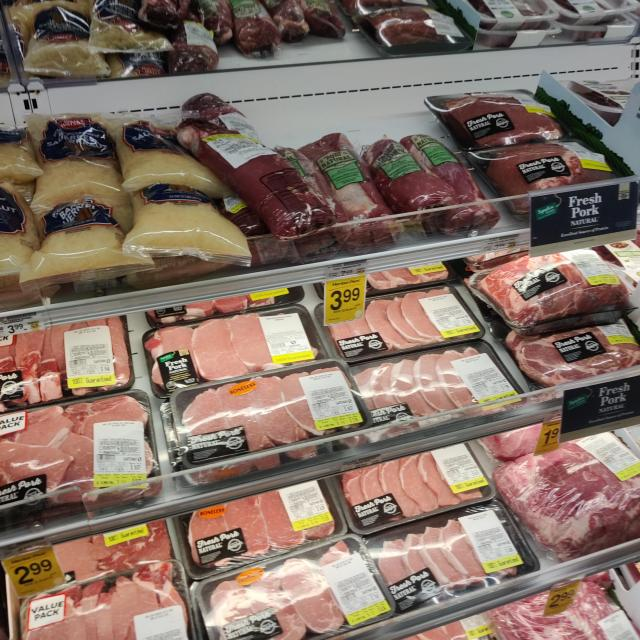Meat: (183, 529, 391, 640), (184, 89, 325, 241), (490, 436, 640, 564), (0, 389, 161, 505), (166, 357, 364, 448), (166, 471, 352, 566), (363, 500, 539, 600), (133, 303, 327, 387), (10, 550, 183, 640), (372, 122, 499, 240), (476, 243, 634, 337), (315, 280, 502, 358), (338, 430, 524, 507), (349, 349, 539, 424), (477, 122, 640, 205), (426, 72, 601, 140), (298, 122, 395, 238)
